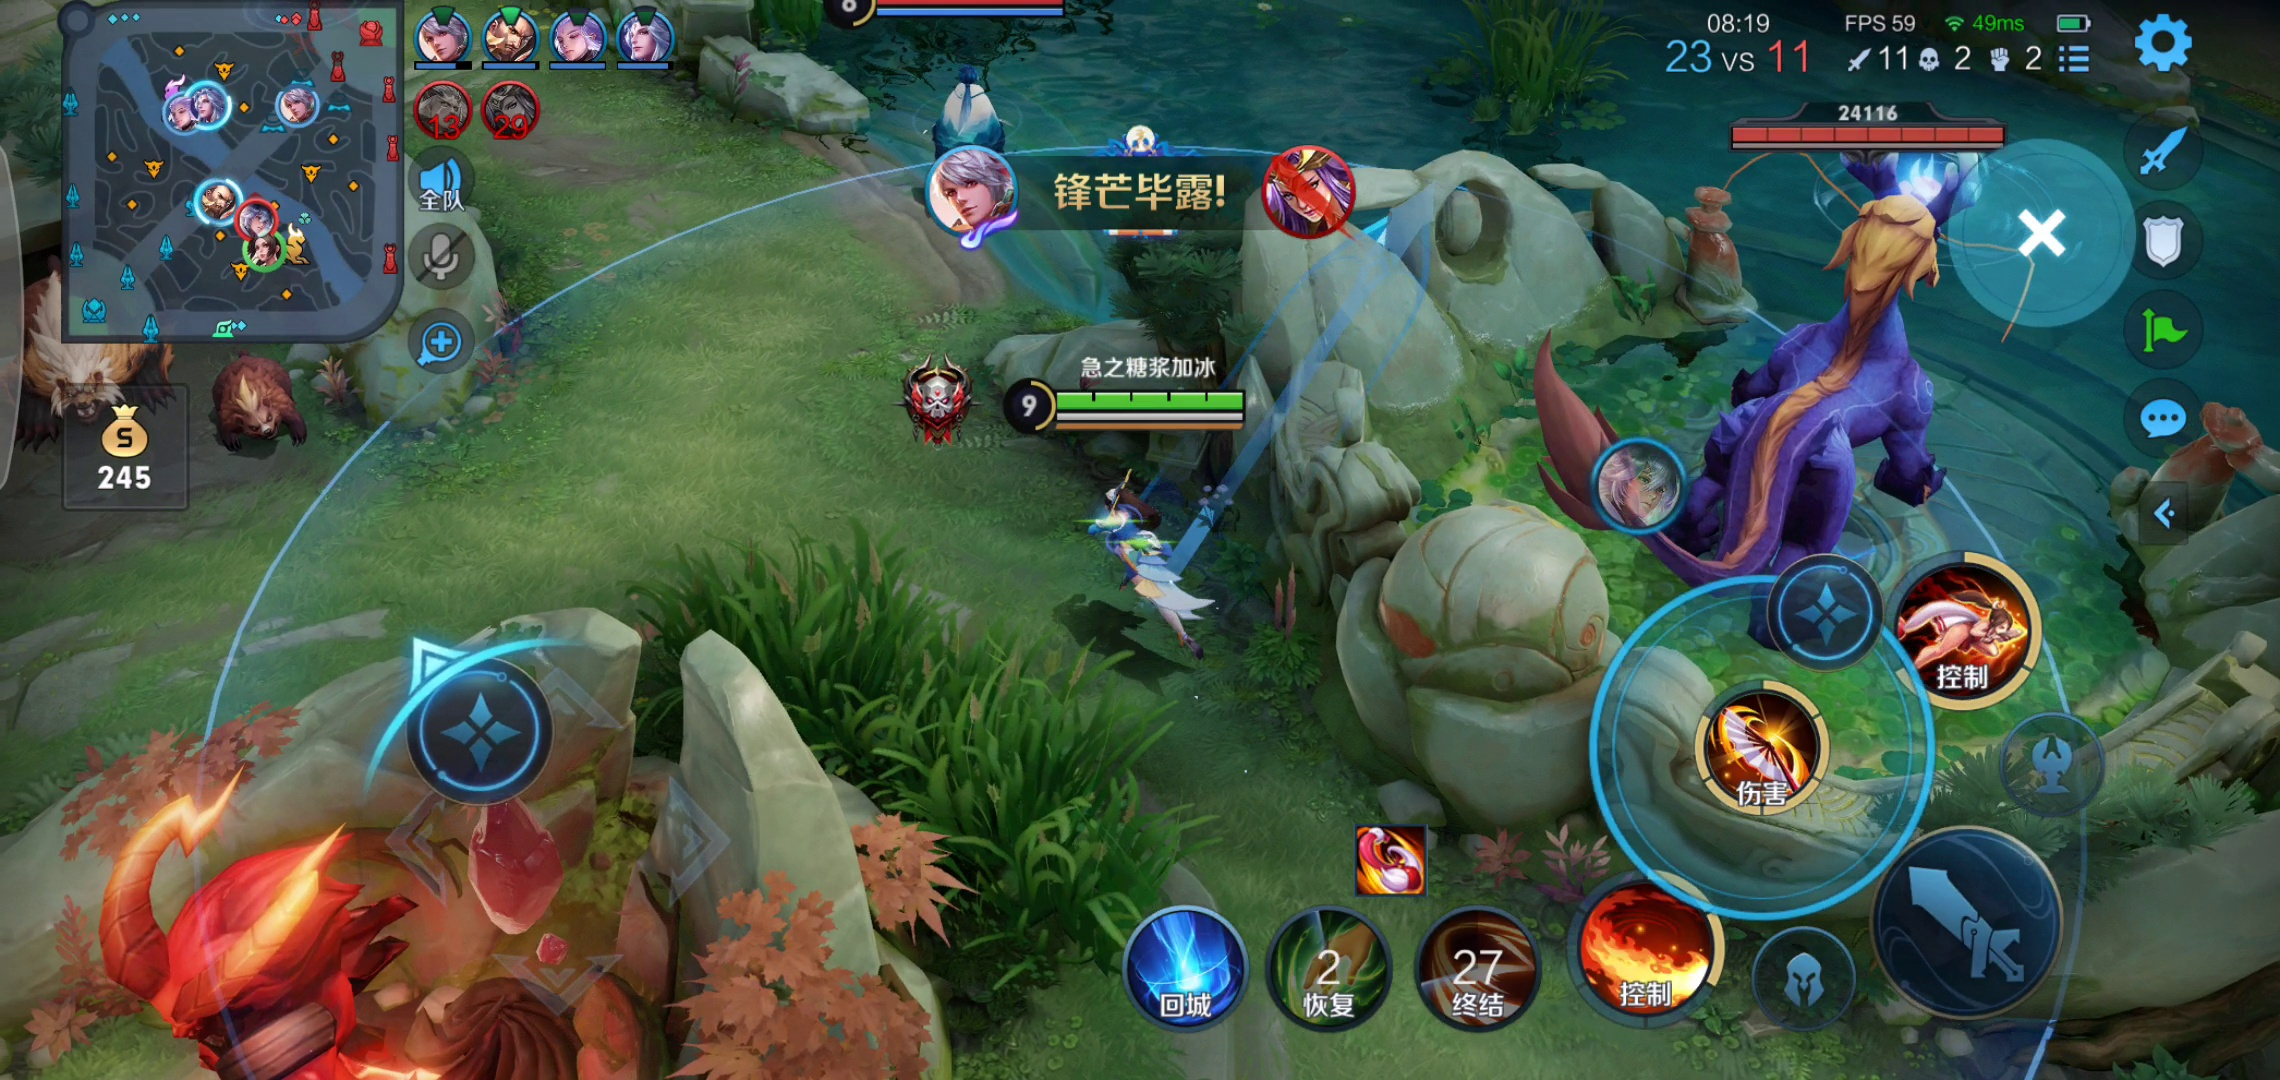buff: (97, 805, 558, 1080)
dragon: (1554, 109, 1992, 605)
grass: (630, 567, 1143, 967), (1456, 1, 1629, 147)
hero: (1064, 464, 1245, 666), (890, 48, 1047, 182)
wild_monster: (1, 270, 342, 471)
